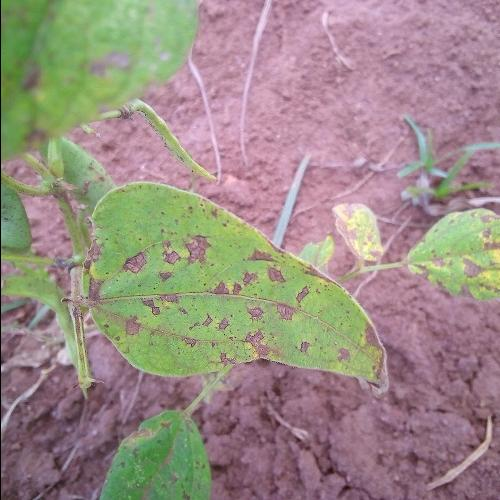mozaik: (77, 154, 385, 426)
